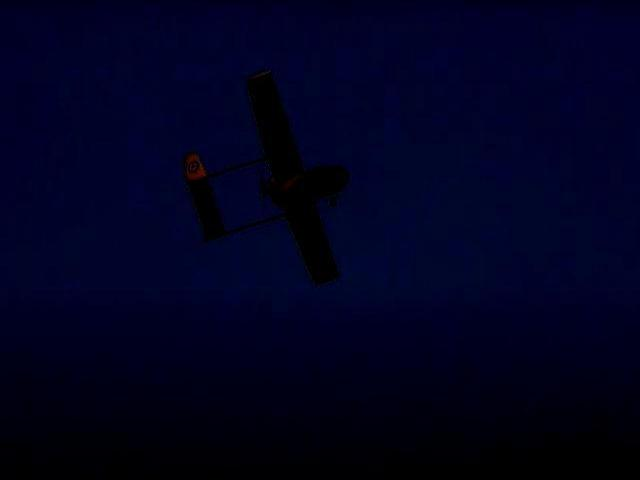iha: (178, 67, 353, 288)
